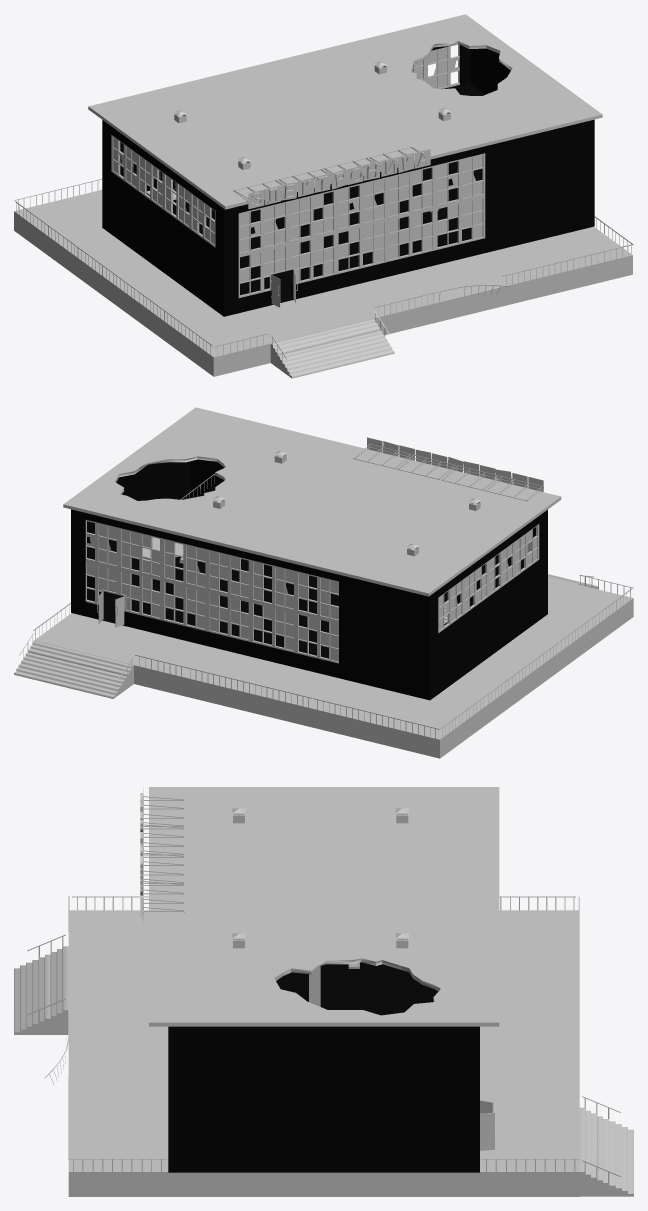
The model's file is Electronics_Building.FBX.
3 renders of one model, top to bottom at view 1: azimuth 30°, elevation 25°; view 2: azimuth 150°, elevation 25°; view 3: azimuth 270°, elevation 25°, orthographic. The views are drawn at different scales.
Parts seen in each view (by area): view 1: Electronics_Building, Electronics_Building_Windows_Glass, Electronics_Building_Windows, Electronics_Building_stairs, Electronics_Building_Text, Electronics_Building_Rail, Electronics_Building_Vents; view 2: Electronics_Building, Electronics_Building_Windows, Electronics_Building_Windows_Glass, Electronics_Building_stairs, Electronics_Building_Text, Electronics_Building_Rail, Electronics_Building_Doors, Electronics_Building_Vents; view 3: Electronics_Building, Electronics_Building_stairs, Electronics_Building_Rail, Electronics_Building_Text, Electronics_Building_Vents, Electronics_Building_Doors.
Boxes of the visible parts, x1,y1,x2,y2 form: Electronics_Building: (14, 14, 632, 376); Electronics_Building_Windows_Glass: (113, 47, 482, 282); Electronics_Building_Windows: (111, 44, 485, 298); Electronics_Building_stairs: (270, 318, 394, 378); Electronics_Building_Text: (232, 146, 430, 209); Electronics_Building_Rail: (14, 171, 633, 363); Electronics_Building_Vents: (174, 61, 450, 169); Electronics_Building: (33, 407, 633, 758); Electronics_Building_Windows: (85, 520, 539, 663); Electronics_Building_Windows_Glass: (86, 524, 537, 661); Electronics_Building_stairs: (14, 574, 598, 698); Electronics_Building_Text: (353, 437, 543, 501); Electronics_Building_Rail: (19, 474, 633, 738); Electronics_Building_Doors: (97, 589, 126, 627); Electronics_Building_Vents: (212, 451, 480, 556); Electronics_Building: (68, 787, 579, 1196); Electronics_Building_stairs: (14, 946, 633, 1196); Electronics_Building_Rail: (27, 896, 620, 1186); Electronics_Building_Text: (140, 787, 184, 921); Electronics_Building_Vents: (232, 808, 408, 948); Electronics_Building_Doors: (480, 1100, 494, 1150).
Size of the model in its own units: 3335 by 3328 by 1117.
